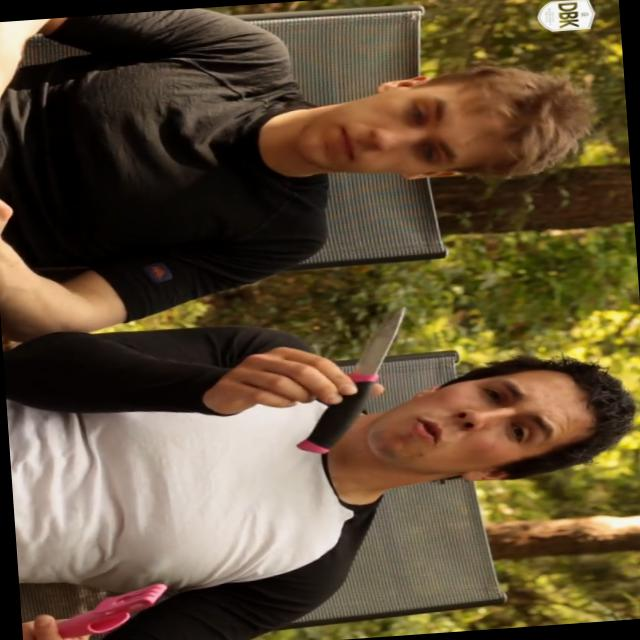knife: (260, 293, 432, 462)
